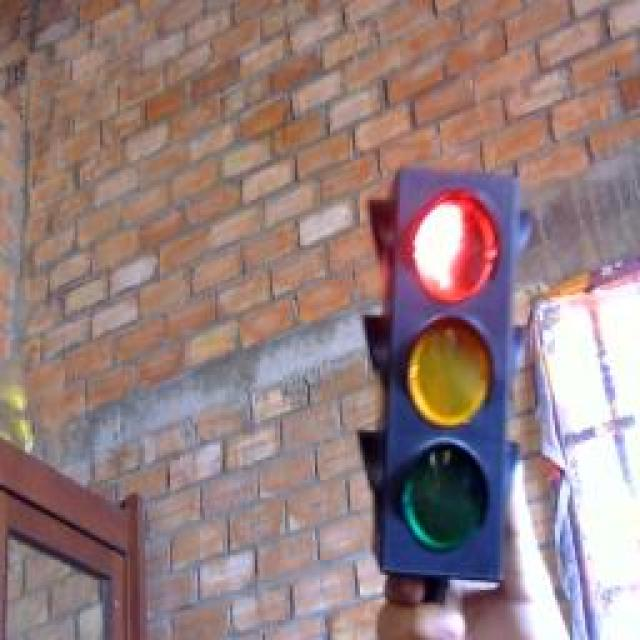-: (405, 187, 505, 310)
